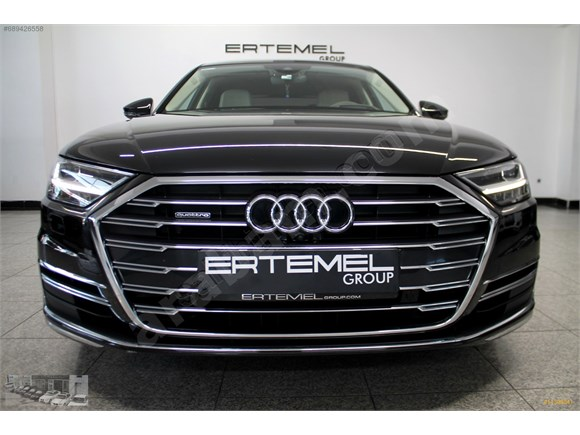audi: (241, 187, 363, 237)
